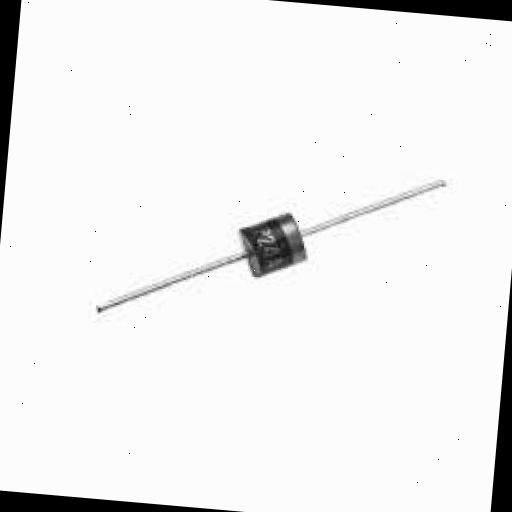DIODE: (93, 146, 447, 344)
